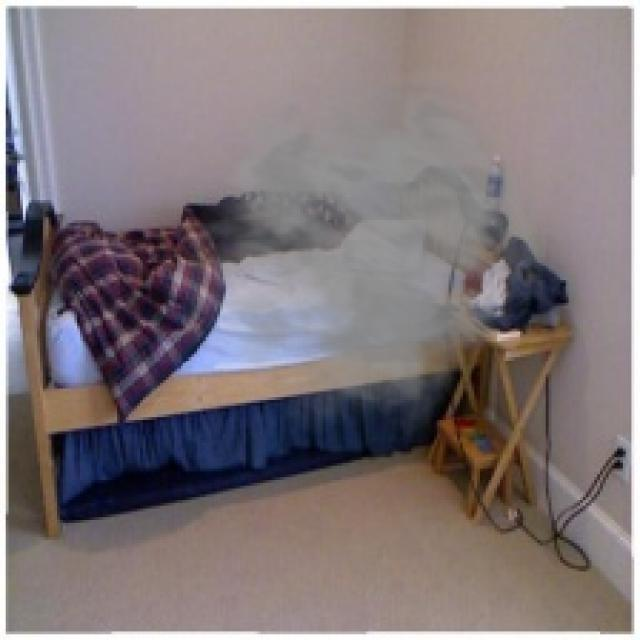Smoke: (162, 63, 548, 443)
